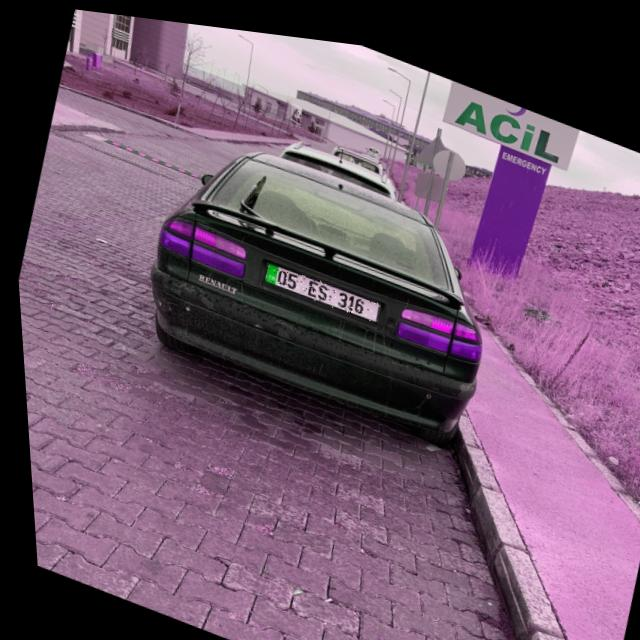license_plate: (258, 253, 378, 316)
